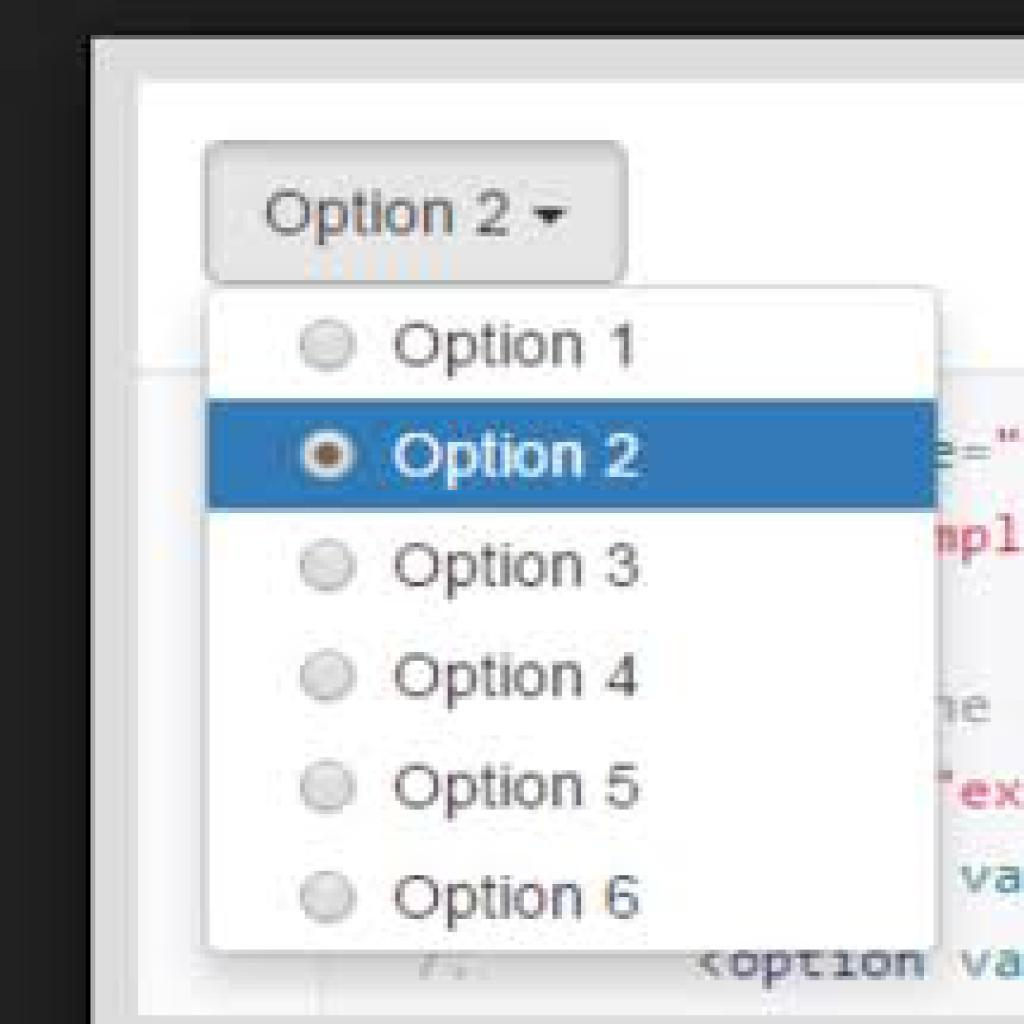dropdown: (207, 141, 629, 287)
radio: (279, 866, 378, 950), (274, 635, 375, 717), (285, 416, 370, 494), (290, 751, 373, 825), (283, 312, 368, 381), (290, 527, 364, 604)
